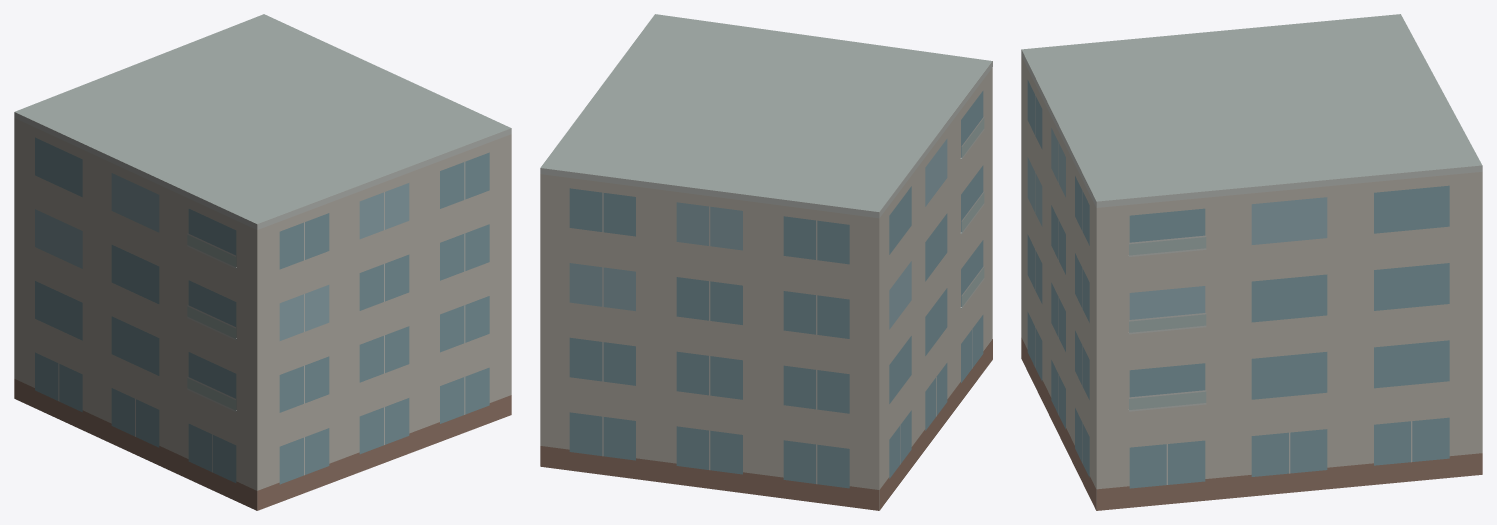
File: survey-upis-32966309.glb
3 renders of one model, left to right at view 1: azimuth 30°, elevation 25°; view 2: azimuth 150°, elevation 25°; view 3: azimuth 270°, elevation 25°, orthographic. The views are drawn at different scales.
Visible parts, largest first — view 1: survey-upis-32966309.tmp; view 2: survey-upis-32966309.tmp; view 3: survey-upis-32966309.tmp.
Part boxes in pixels (<box>): survey-upis-32966309.tmp: <box>14,14,511,510</box>; survey-upis-32966309.tmp: <box>540,14,992,510</box>; survey-upis-32966309.tmp: <box>1021,14,1482,510</box>.
Size of the model in its own units: 15.49 by 11.9 by 16.09.
